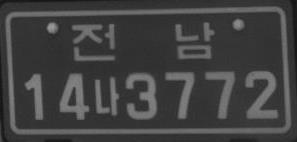1: (21, 72, 50, 121)
2: (243, 69, 279, 121)
3: (124, 71, 159, 121)
4: (58, 71, 90, 121)
7: (203, 69, 237, 120), (163, 70, 197, 120)
나: (92, 75, 119, 117)
전남_D: (70, 20, 216, 63)
